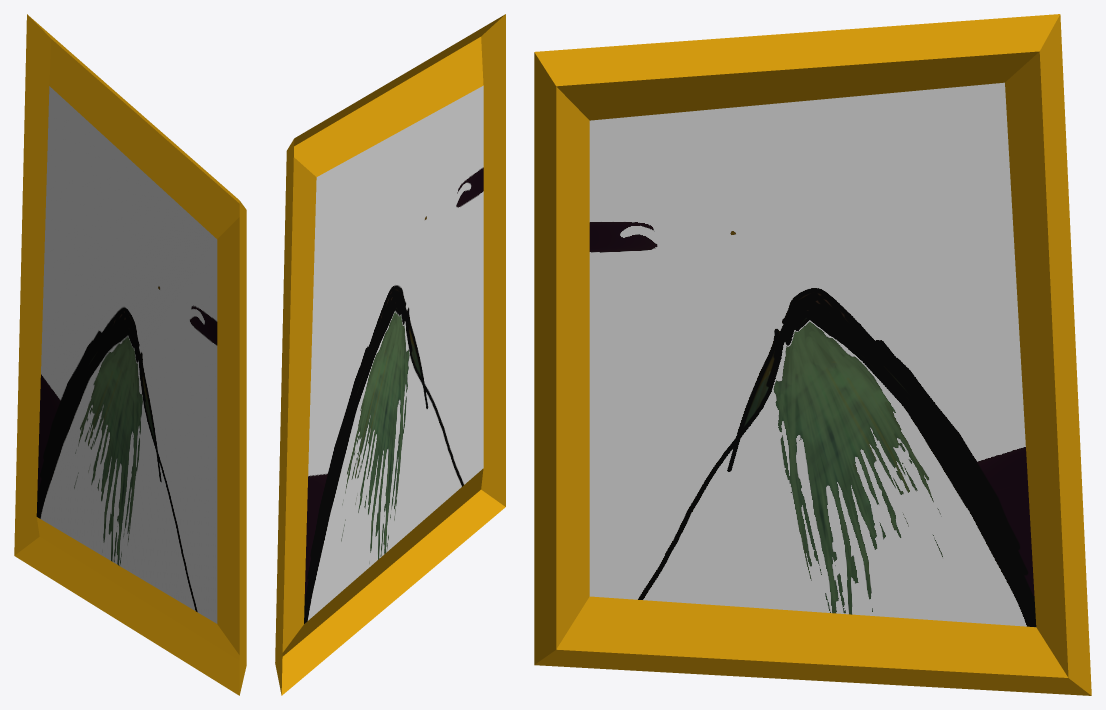
Rendered from Painting1_Model.fbx.
The picture shows the model from 3 angles, left to right: view 1: azimuth 30°, elevation 25°; view 2: azimuth 150°, elevation 25°; view 3: azimuth 270°, elevation 25°; orthographic projection. The views are drawn at different scales.
Parts seen in each view (by area): view 1: 20_Painting1; view 2: 20_Painting1; view 3: 20_Painting1.
Boxes of the visible parts, x1,y1,x2,y2 form: 20_Painting1: [14, 14, 246, 695]; 20_Painting1: [275, 14, 505, 695]; 20_Painting1: [534, 14, 1091, 695].
Bounding box in the file's own units: 184 × 248 × 7.5.
Materials: 2 (1 with a texture image).
